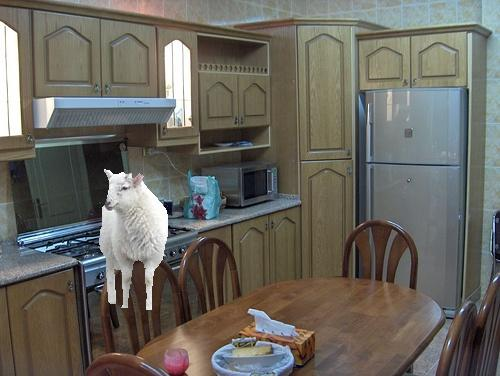tampered: (100, 170, 168, 310)
